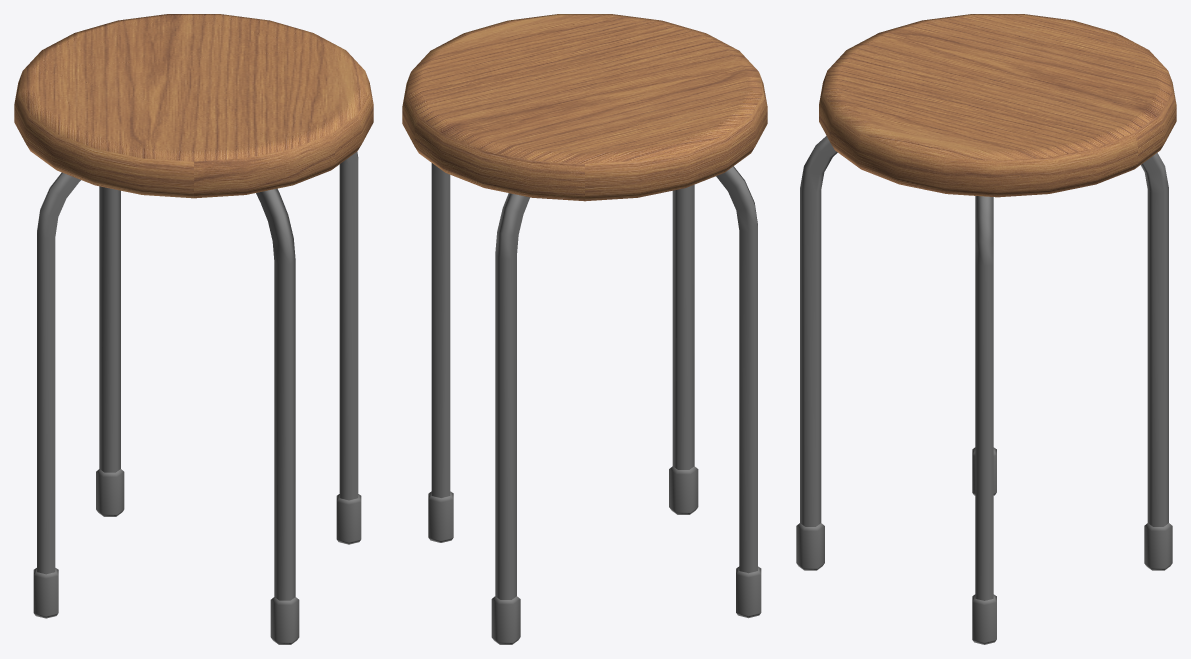
The model's file is SM_stool_01.fbx.
3 views of the same model, side by side, from view 1: azimuth 30°, elevation 25°; view 2: azimuth 150°, elevation 25°; view 3: azimuth 270°, elevation 25° (orthographic). The views are drawn at different scales.
Visible parts, largest first — view 1: Stool; view 2: Stool; view 3: Stool.
Part boxes in pixels (x1,y1,x2,y2): Stool: (14, 14, 373, 644); Stool: (402, 14, 767, 644); Stool: (796, 14, 1176, 644).
Size of the model in its own units: 19.41 by 27.6 by 19.61.
Materials: 2 (1 with a texture image).
